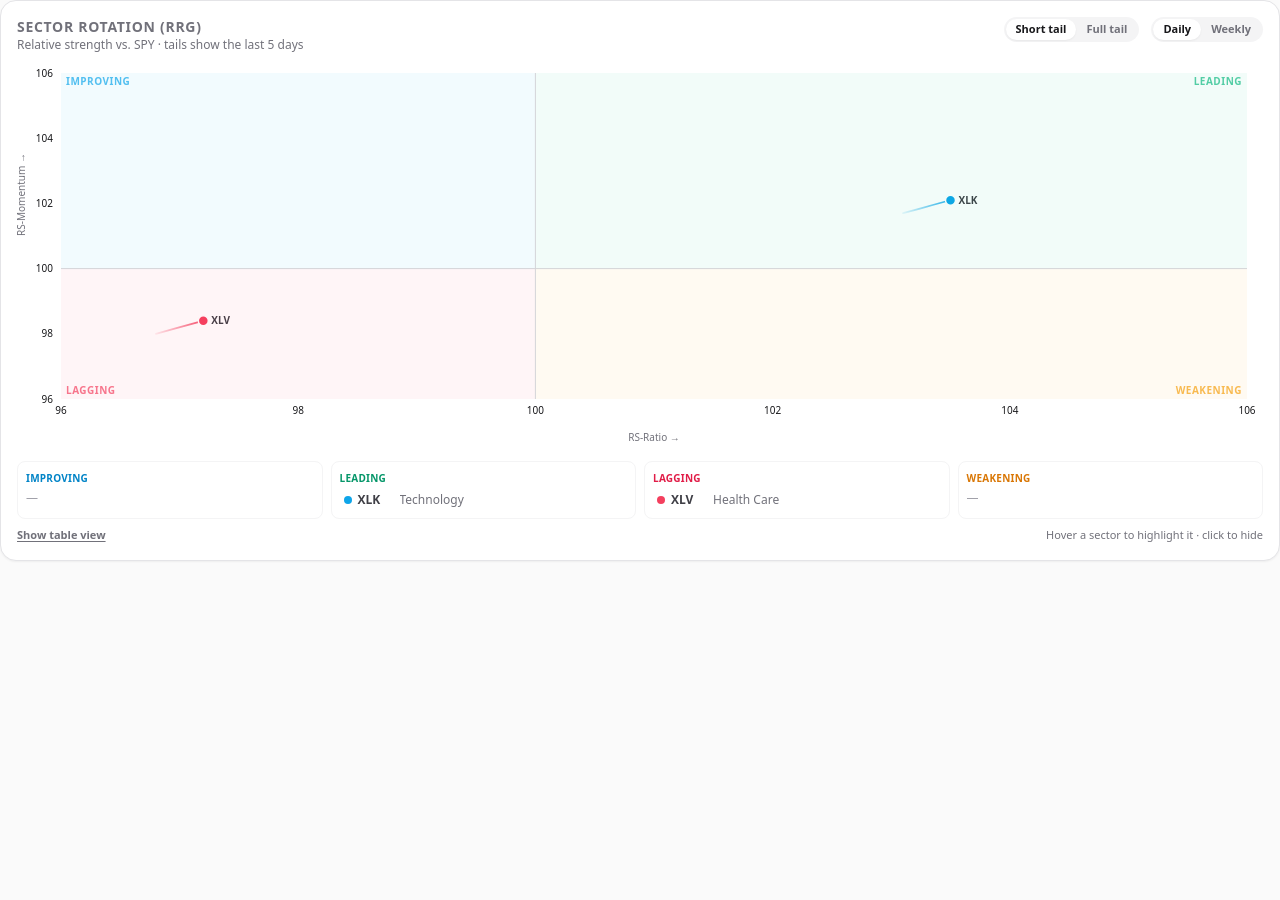
Test: SectorRotationWidget › exposes the latest reading for every sector through a table view
Check: the button "XLK Technology" is shown, box [340,490,627,510]
Click the button "Show table view" at (61, 535), box [17,527,106,544]
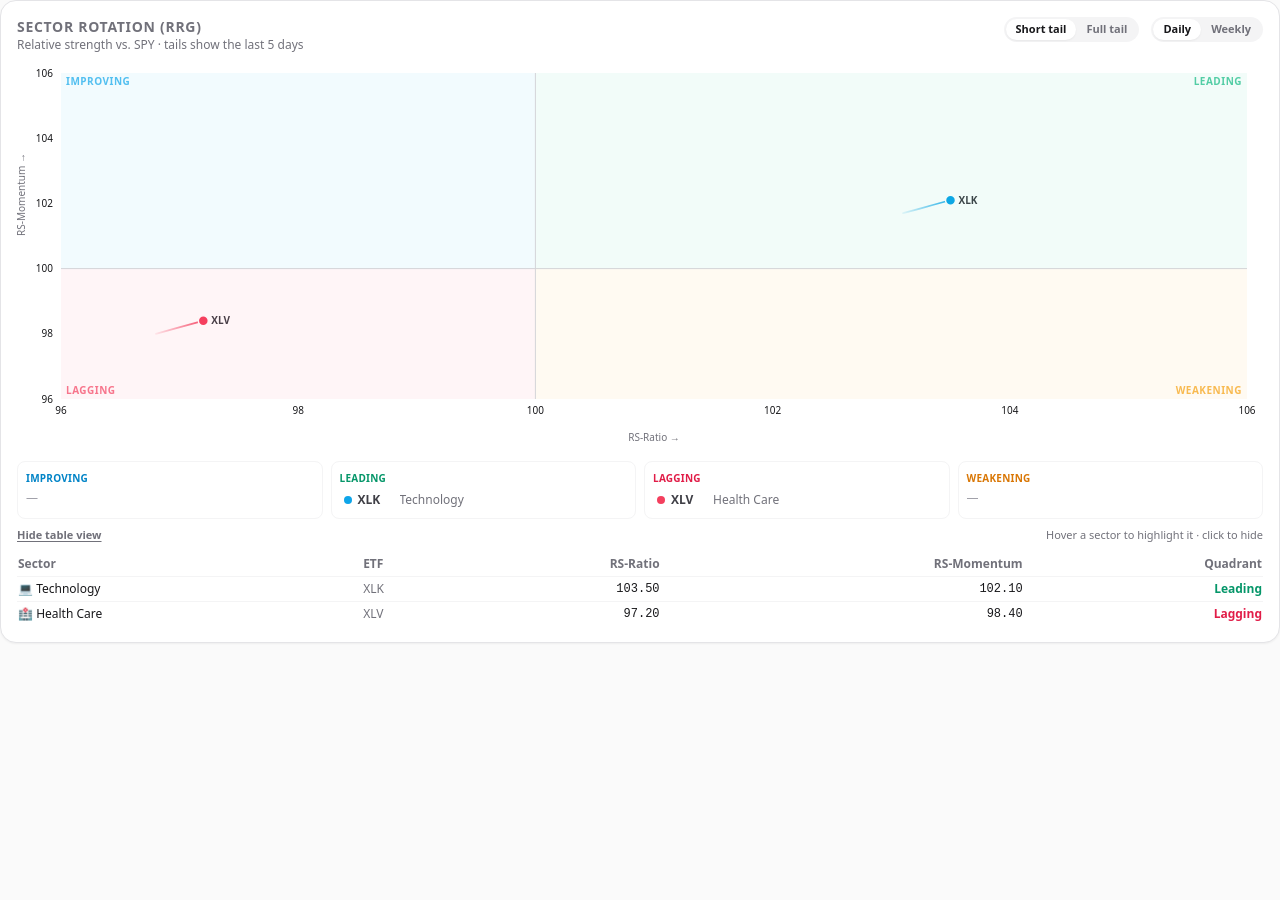
Check: the text "103.50" is shown, box [453,576,661,601]
Check: the text "98.40" is shown, box [661,601,1024,626]
